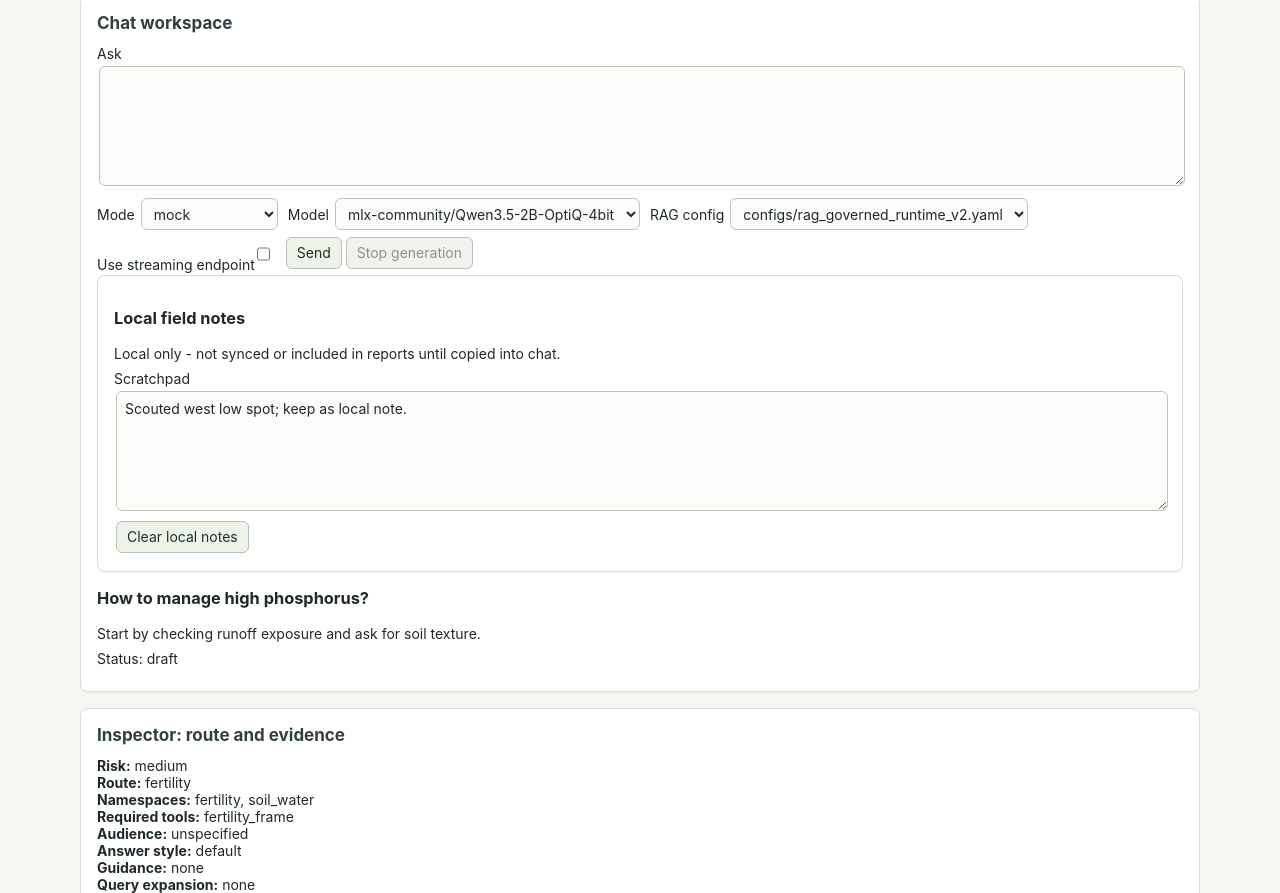
Test: cockpit app › keeps local field notes in an unsynced session scratchpad
This screenshot has width=1280, height=893.
(page scrolled)
Expected: the text with test id "local-scratchpad-status" shows "Local only", x1=114 y1=345 x2=561 y2=362
Expected: the text with test id "local-scratchpad-status" shows "not synced", x1=114 y1=345 x2=561 y2=362
Replace the text in the text box with test id "local-scratchpad-input" with "Updated local scouting note". click: (642, 451)
box: x1=116 y1=391 x2=1168 y2=511
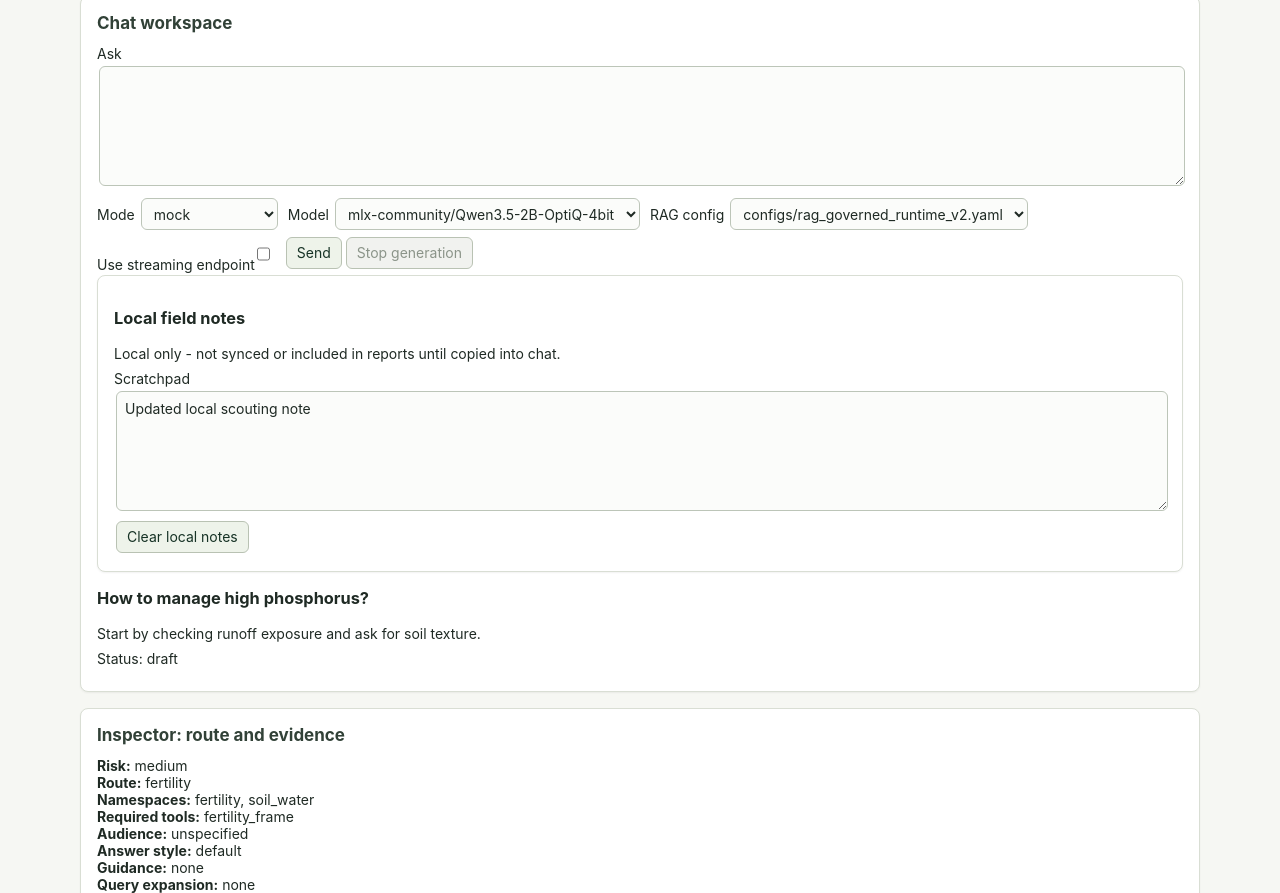
Click the button with test id "local-scratchpad-clear". click: click(182, 537)
box: x1=116 y1=521 x2=249 y2=553
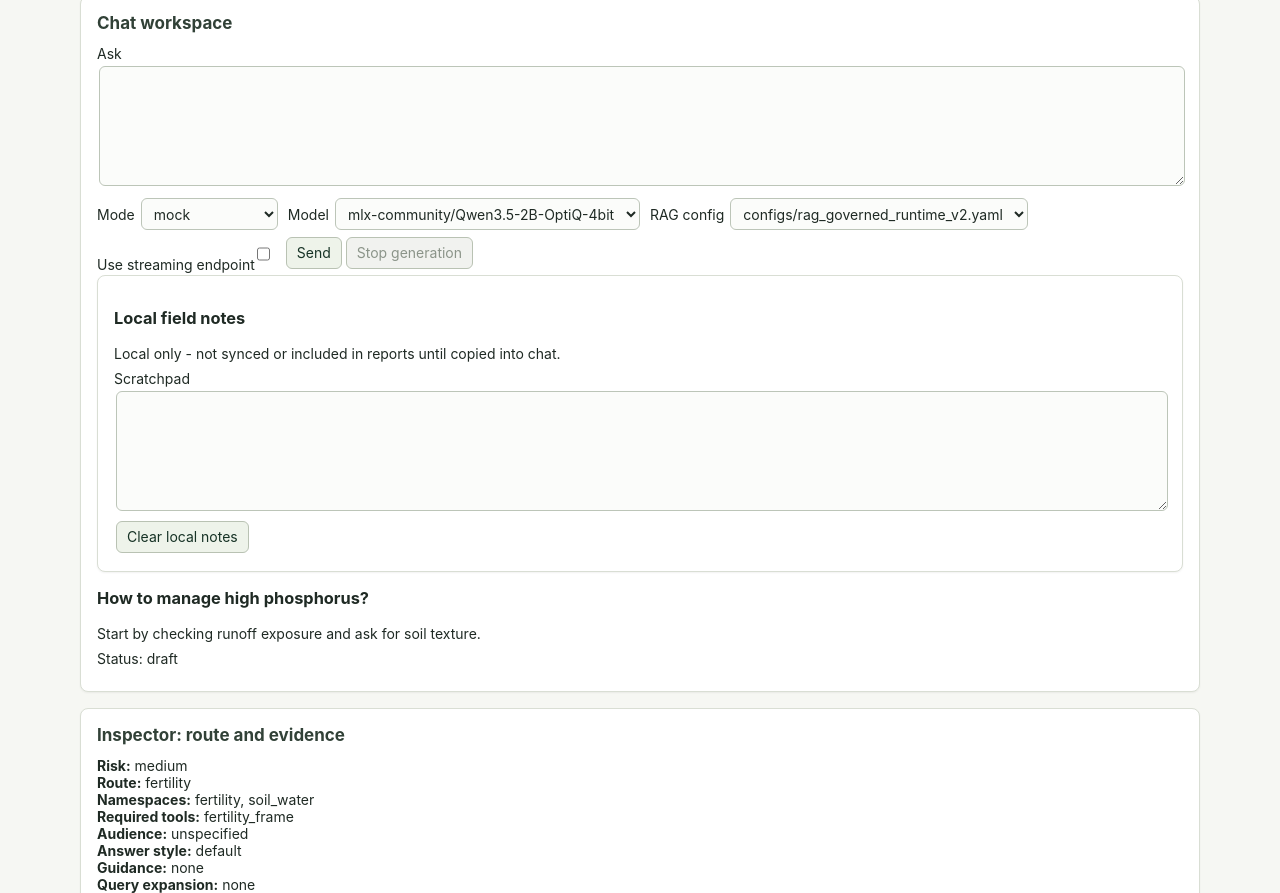
Now the text box with test id "local-scratchpad-input" is empty, box x1=116 y1=391 x2=1168 y2=511
